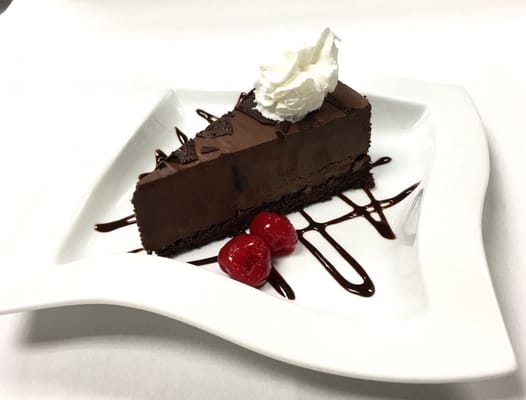curry: (16, 10, 525, 394)
sushi: (130, 27, 380, 255)
